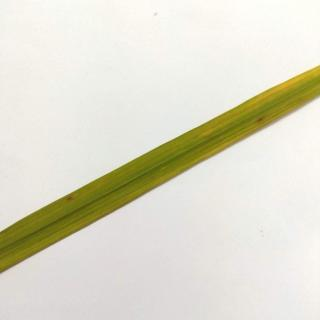bercak-Cokelat: (247, 112, 264, 128), (58, 196, 80, 208)
